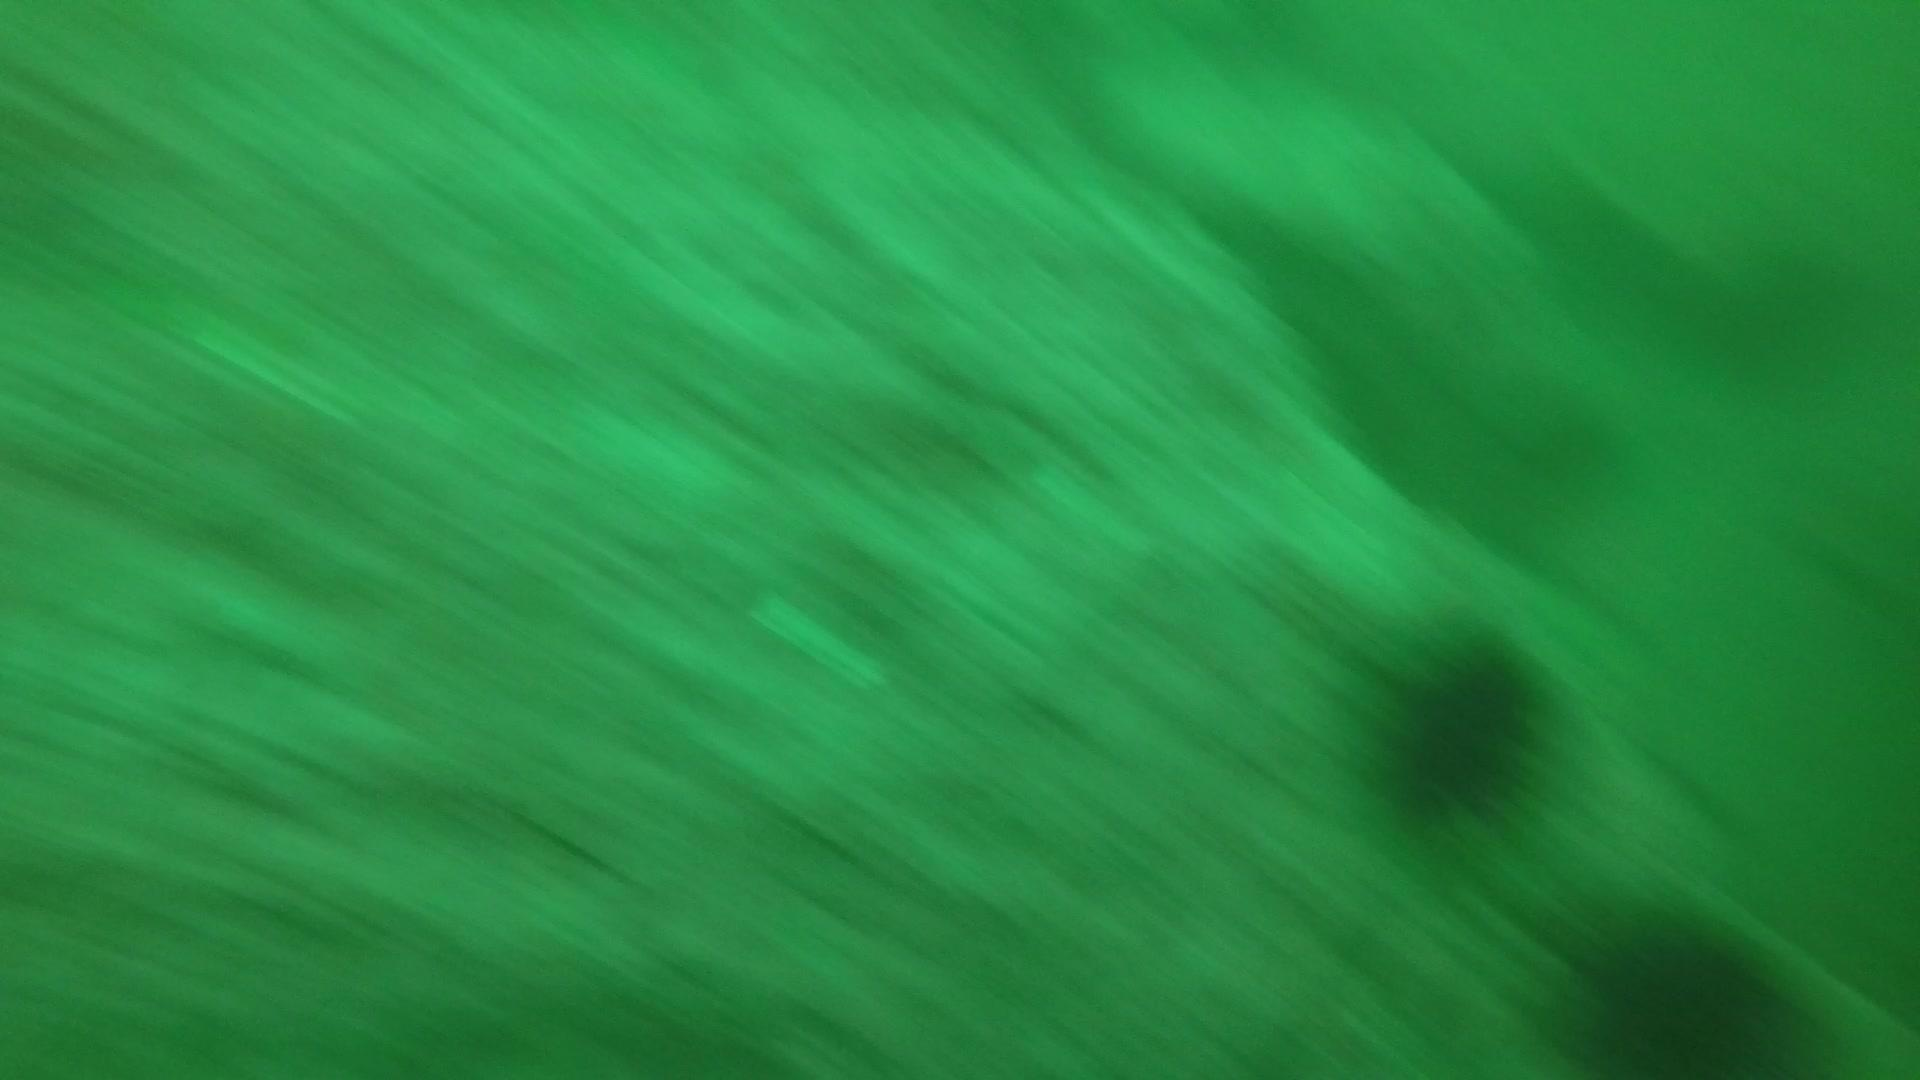echinus: (1544, 906, 1803, 1076), (1356, 626, 1557, 829)
